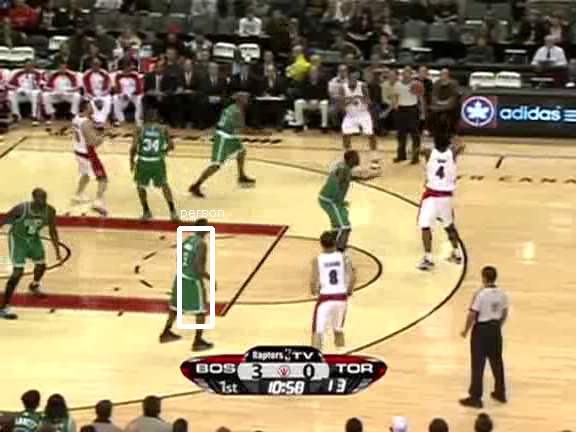person: (177, 235, 211, 316), (176, 235, 210, 316), (178, 235, 212, 316), (177, 234, 211, 315), (177, 236, 211, 317)
target_negative: (36, 97, 326, 351), (291, 119, 570, 289), (214, 233, 387, 310), (390, 280, 531, 345), (38, 390, 357, 395), (339, 187, 342, 202)
